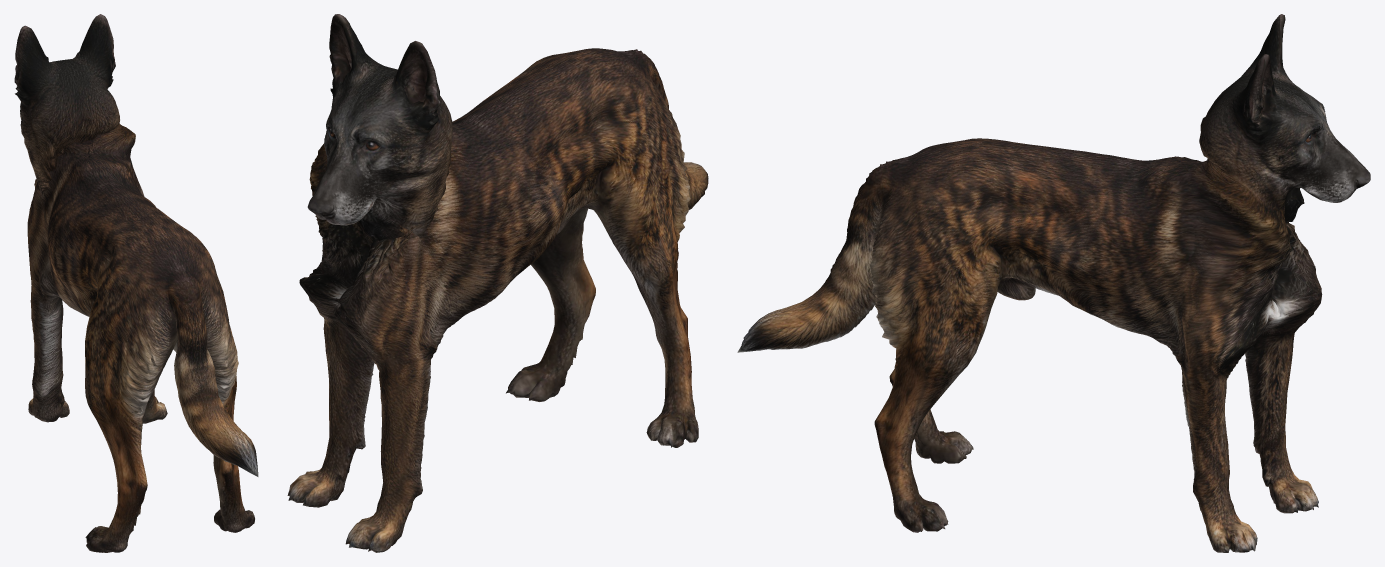
The model's file is duco.glb.
3 views of the same model, side by side, from view 1: azimuth 30°, elevation 25°; view 2: azimuth 150°, elevation 25°; view 3: azimuth 270°, elevation 25° (orthographic). The views are drawn at different scales.
Visible parts, largest first — view 1: tripo_node_329f3a3d-04ac-452a-9ee6-5de53137616d; view 2: tripo_node_329f3a3d-04ac-452a-9ee6-5de53137616d; view 3: tripo_node_329f3a3d-04ac-452a-9ee6-5de53137616d.
Boxes of the visible parts, left/top/right/bottom form: tripo_node_329f3a3d-04ac-452a-9ee6-5de53137616d: left=14, top=14, right=258, bottom=552; tripo_node_329f3a3d-04ac-452a-9ee6-5de53137616d: left=287, top=14, right=708, bottom=552; tripo_node_329f3a3d-04ac-452a-9ee6-5de53137616d: left=737, top=14, right=1370, bottom=552.
Size of the model in its own units: 0.4224 by 0.8293 by 0.9946.
1 material, 1 textured.
